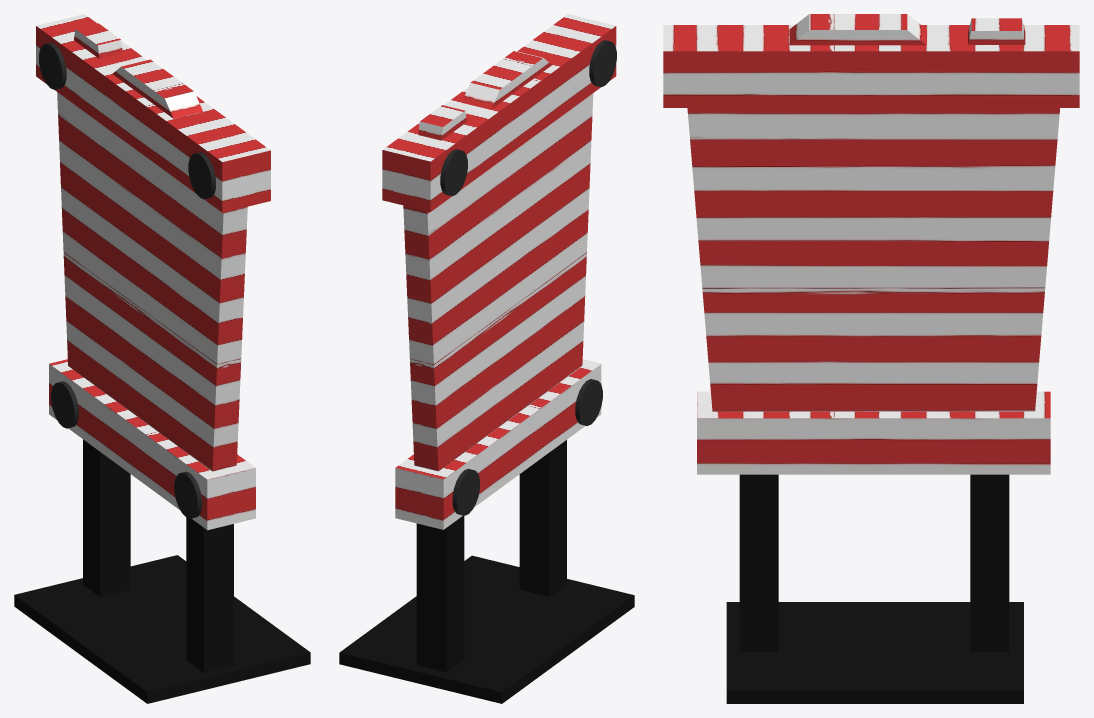
File: Obstaculo3.fbx
The picture shows the model from 3 angles, left to right: view 1: azimuth 30°, elevation 25°; view 2: azimuth 150°, elevation 25°; view 3: azimuth 270°, elevation 25°; orthographic projection. The views are drawn at different scales.
Parts seen in each view (by area): view 1: Box004; view 2: Box004; view 3: Box004.
Part boxes in pixels (x1=…): Box004: x1=14, y1=14, x2=310, y2=703; Box004: x1=339, y1=14, x2=634, y2=703; Box004: x1=663, y1=14, x2=1079, y2=703.
Bounding box in the file's own units: 27 × 89.25 × 53.37.
Materials: 3 (1 with a texture image).
